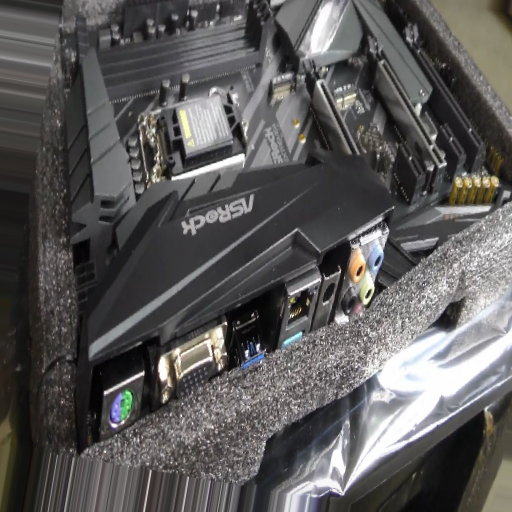CPU: (137, 94, 250, 174)
GPU: (400, 25, 489, 168), (366, 36, 449, 181), (302, 57, 365, 160)
MOTHERBOARD: (49, 3, 505, 436)
RAM: (71, 3, 272, 83)
SSD: (327, 80, 371, 105), (269, 73, 307, 99)
